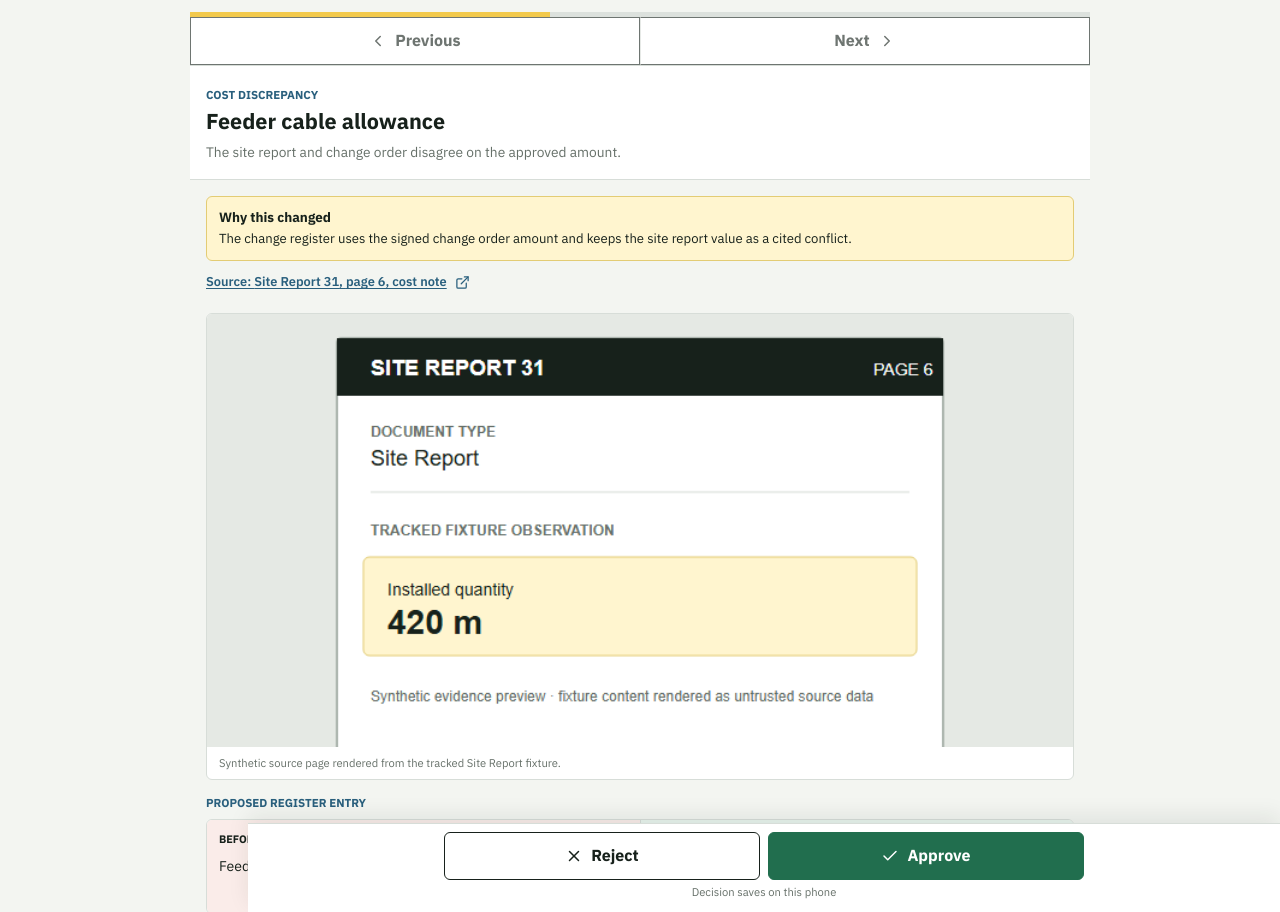
Scenario: review surfaces › does not claim a persistence failure was saved
Click the button "Approve": (926, 856) [768, 832, 1084, 880]
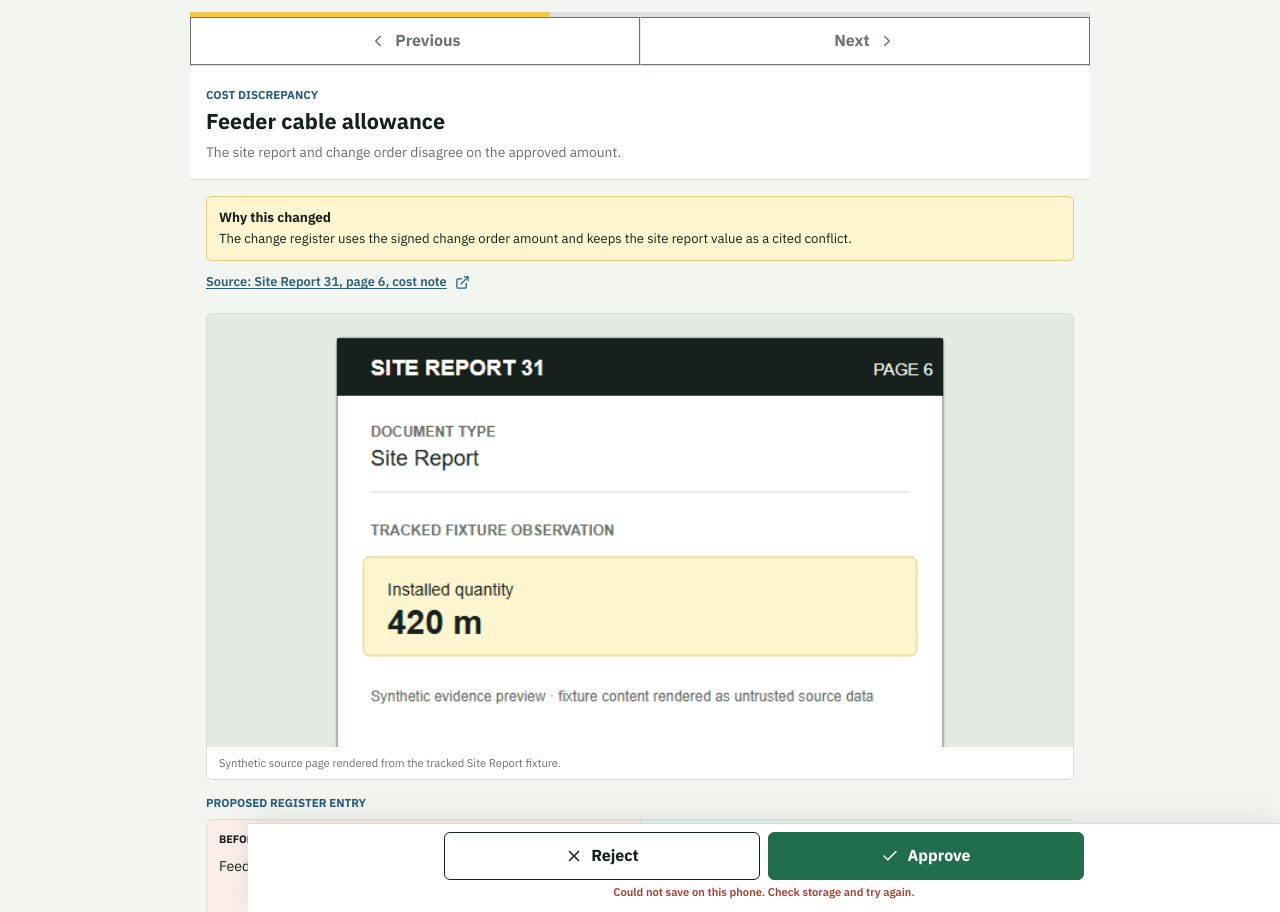
Check: the message shows "Could not save on this phone", box [613, 885, 915, 899]
